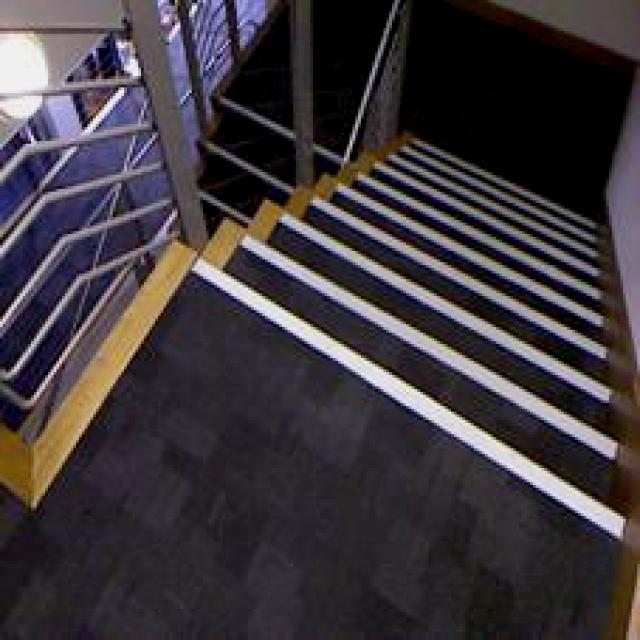downstair: (173, 145, 638, 534)
